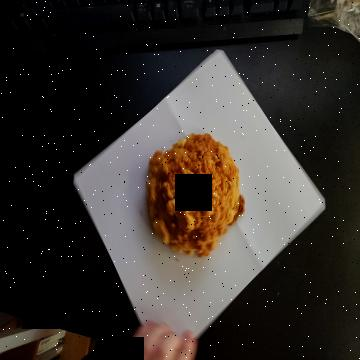soboru_bread: (147, 131, 244, 263)
